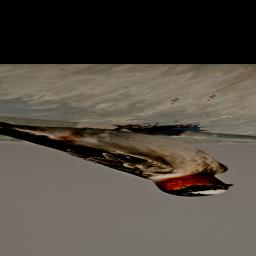Swallow: (0, 120, 237, 198)
